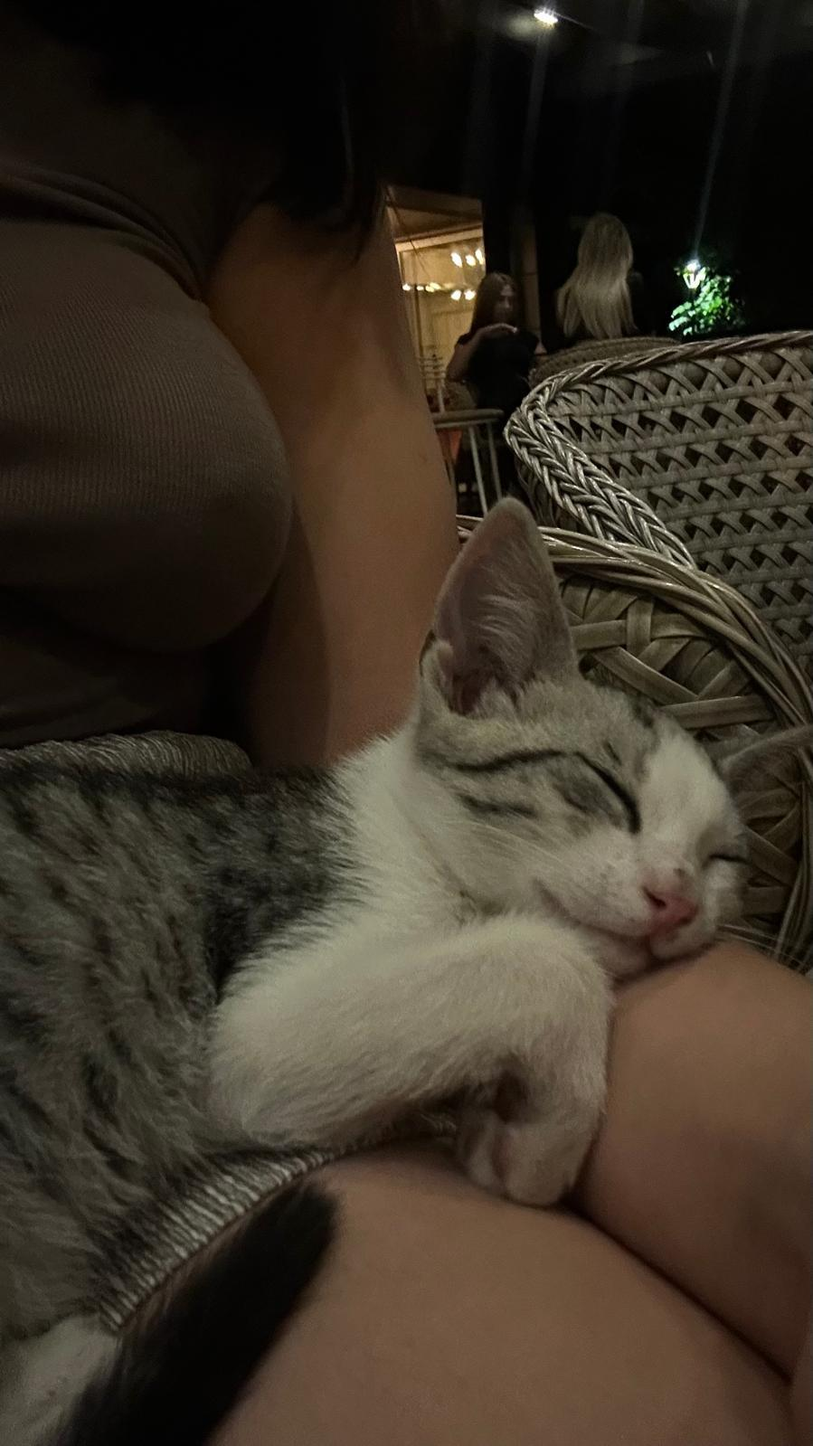macka: (0, 494, 812, 1445)
